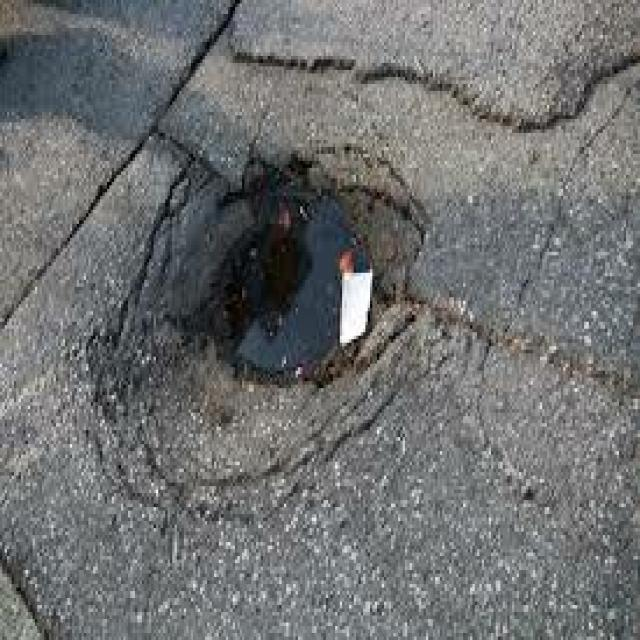Pothole: (86, 84, 487, 497)
